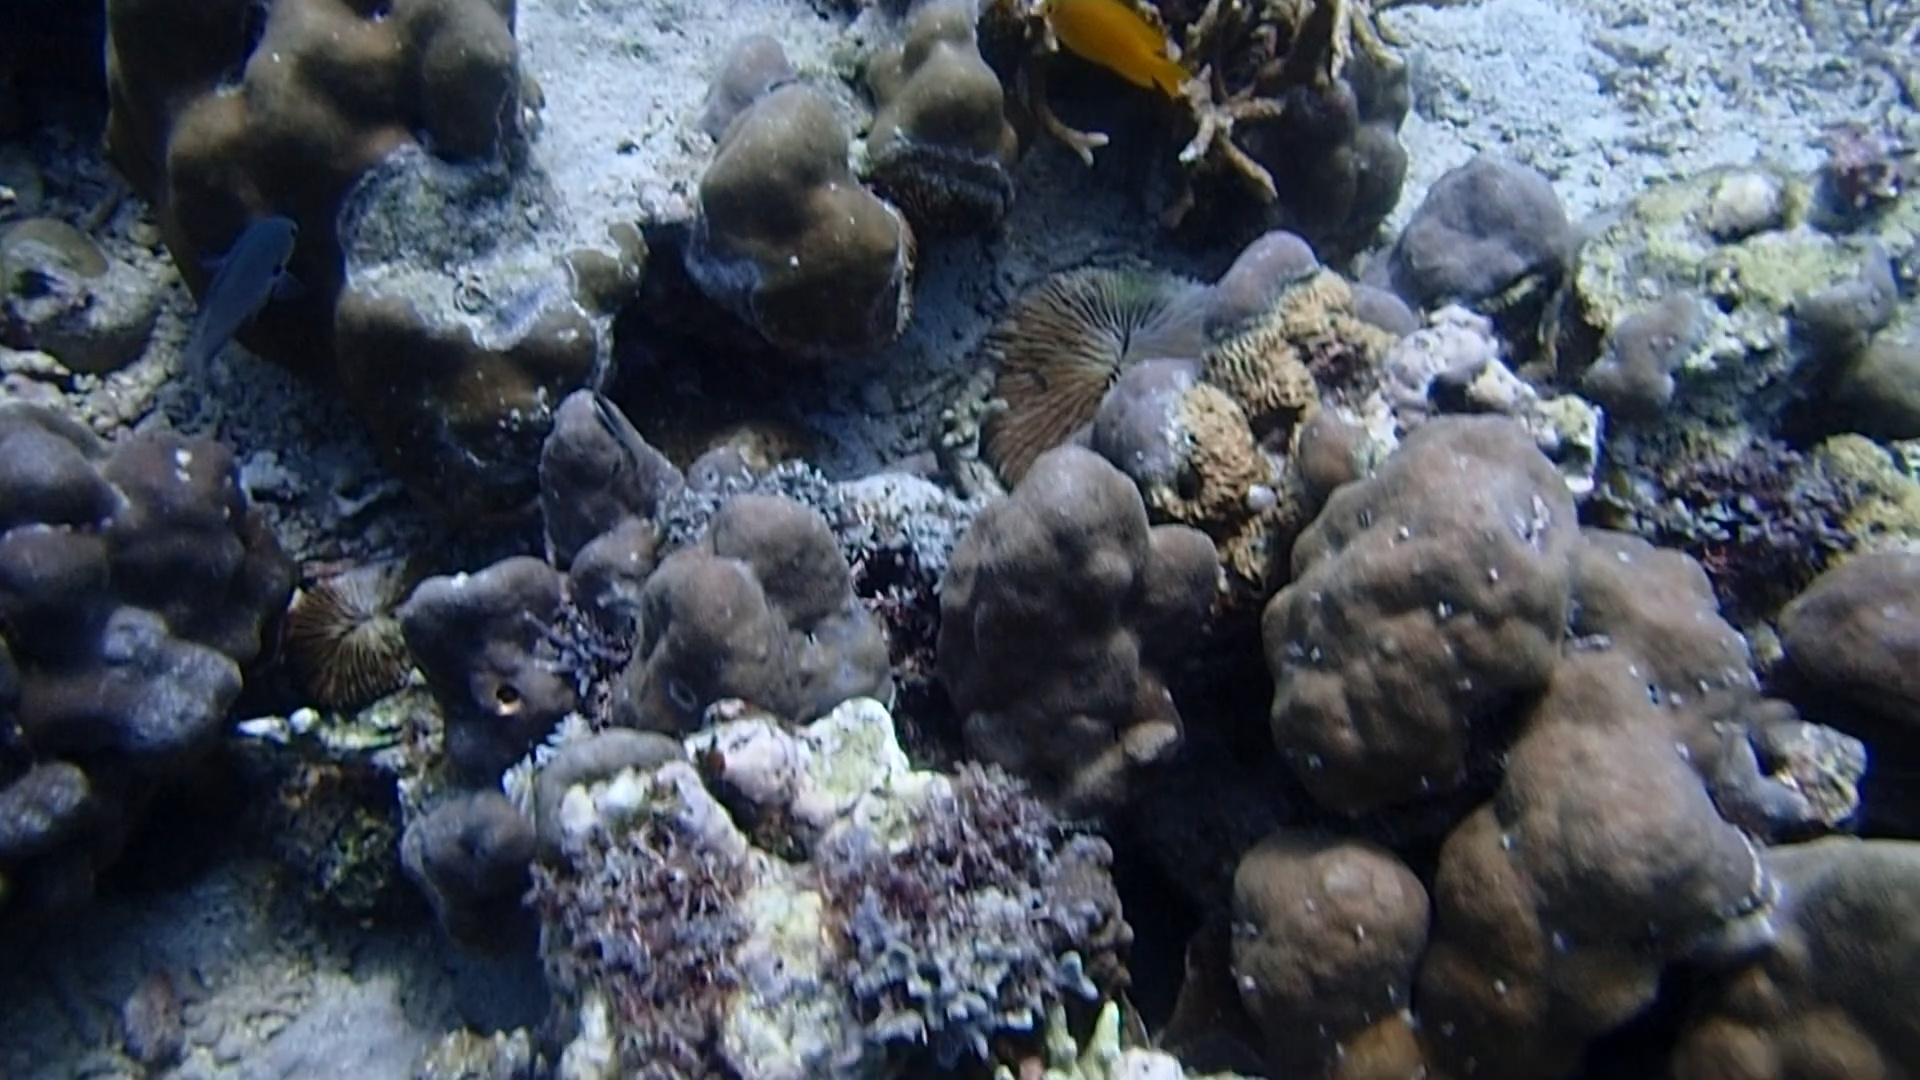Blue Fish Two: (166, 206, 303, 390)
Yellow Fish: (1025, 0, 1192, 111)
